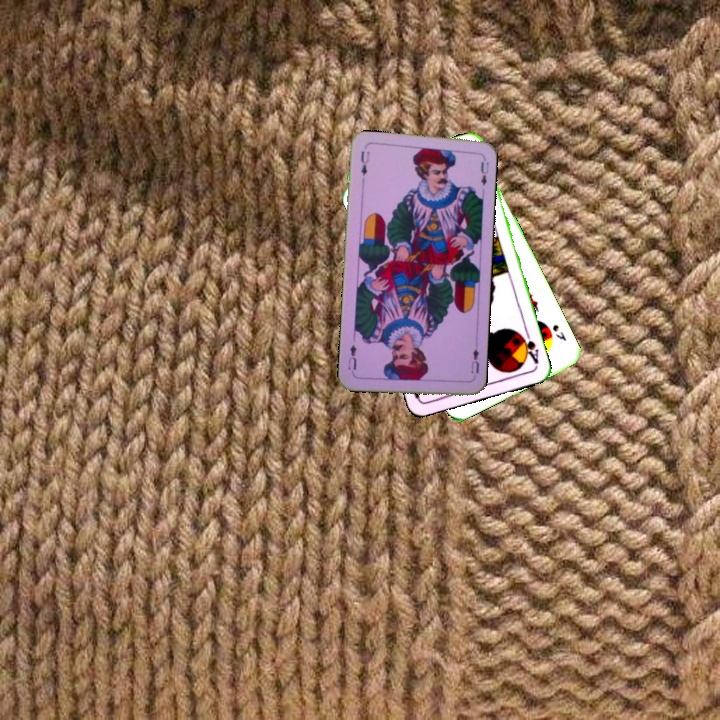EU: (467, 340, 482, 376), (356, 147, 371, 178)
SA: (516, 327, 541, 366)
SK: (548, 320, 569, 343)
